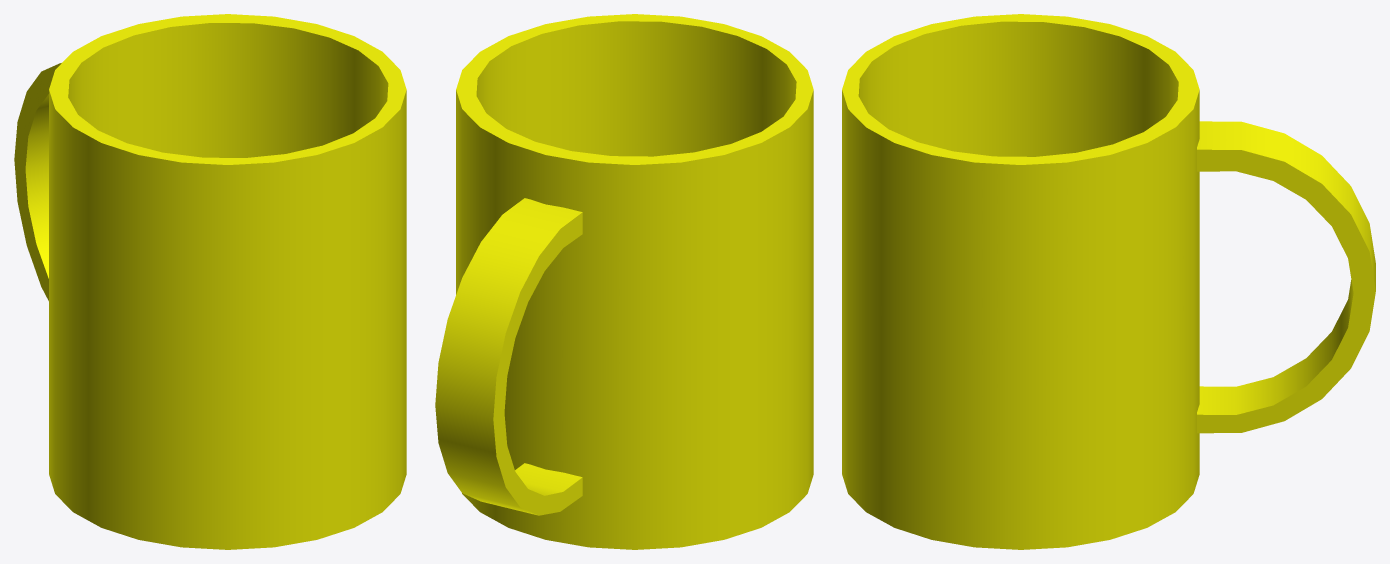
3 views of the same model, side by side, from view 1: azimuth 30°, elevation 25°; view 2: azimuth 150°, elevation 25°; view 3: azimuth 270°, elevation 25° (orthographic).
Visible parts, largest first — view 1: mesh1_mesh1-geometry, mesh2_mesh2-geometry; view 2: mesh1_mesh1-geometry, mesh2_mesh2-geometry; view 3: mesh1_mesh1-geometry, mesh2_mesh2-geometry.
Boxes of the visible parts, x1,y1,x2,y2 form: mesh1_mesh1-geometry: (49, 14, 406, 549); mesh2_mesh2-geometry: (14, 63, 61, 300); mesh1_mesh1-geometry: (456, 14, 813, 549); mesh2_mesh2-geometry: (435, 198, 582, 515); mesh1_mesh1-geometry: (842, 14, 1199, 549); mesh2_mesh2-geometry: (1197, 121, 1375, 433).
Bounding box in the file's own units: 0.4643 × 0.5513 × 0.6931.
